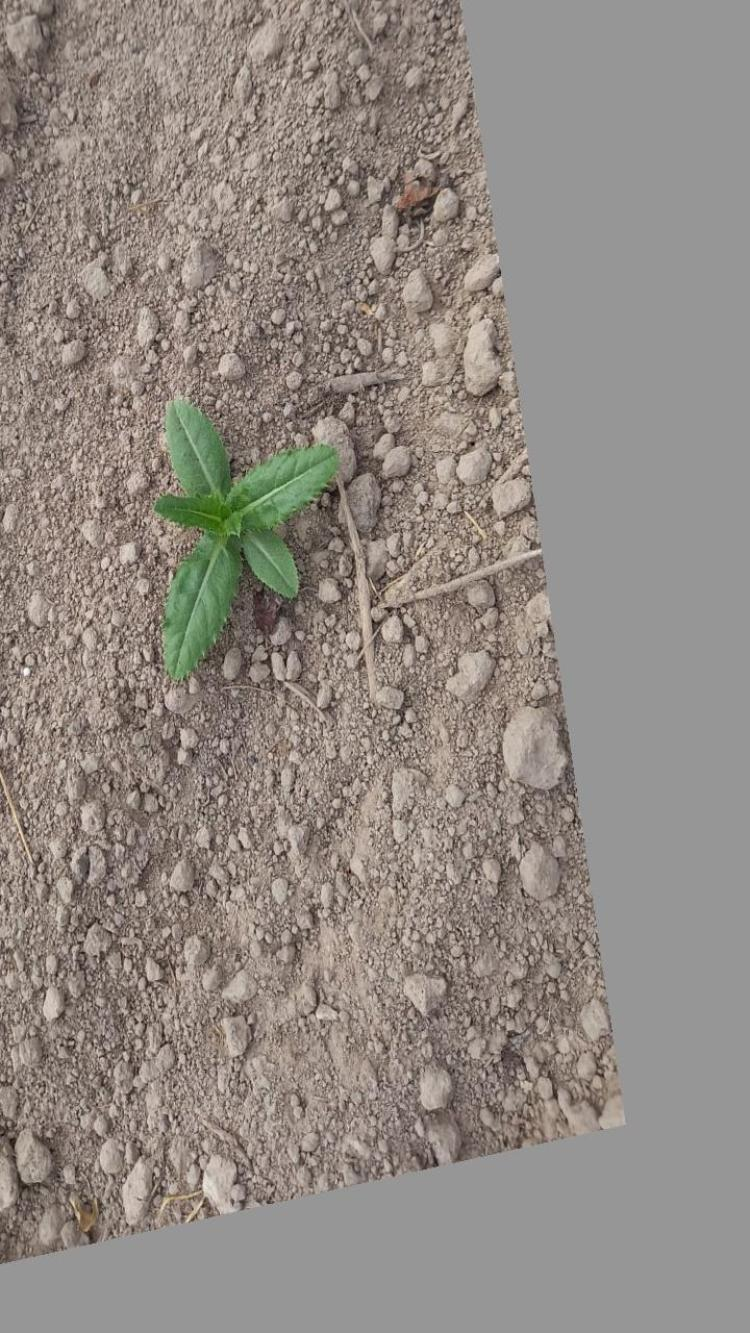osot: (140, 383, 348, 702)
